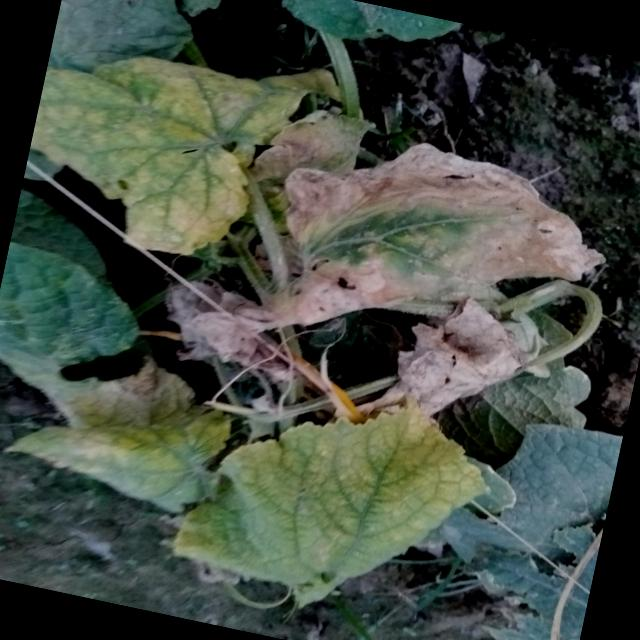cucumber_bacterial: (182, 362, 542, 638), (232, 116, 597, 387), (13, 15, 336, 282), (0, 249, 243, 546), (419, 476, 607, 640), (390, 269, 563, 420), (44, 0, 195, 103)
